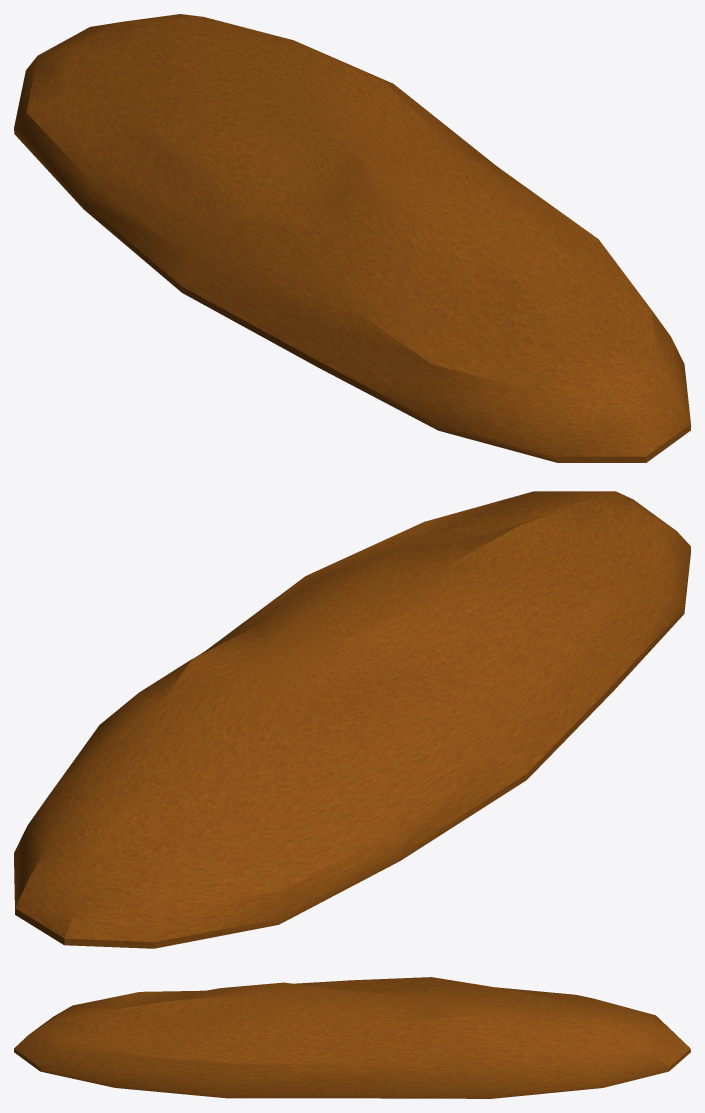
The model's file is gravePile.obj.
3 renders of one model, top to bottom at view 1: azimuth 30°, elevation 25°; view 2: azimuth 150°, elevation 25°; view 3: azimuth 270°, elevation 25°, orthographic. The views are drawn at different scales.
Parts seen in each view (by area): view 1: Cylinder; view 2: Cylinder; view 3: Cylinder.
Part boxes in pixels (x1,y1,x2,y2): Cylinder: [14, 14, 690, 462]; Cylinder: [14, 491, 690, 948]; Cylinder: [14, 977, 690, 1098].
Size of the model in its own units: 1.92 by 0.5583 by 5.67.
Materials: 1 (1 with a texture image).
